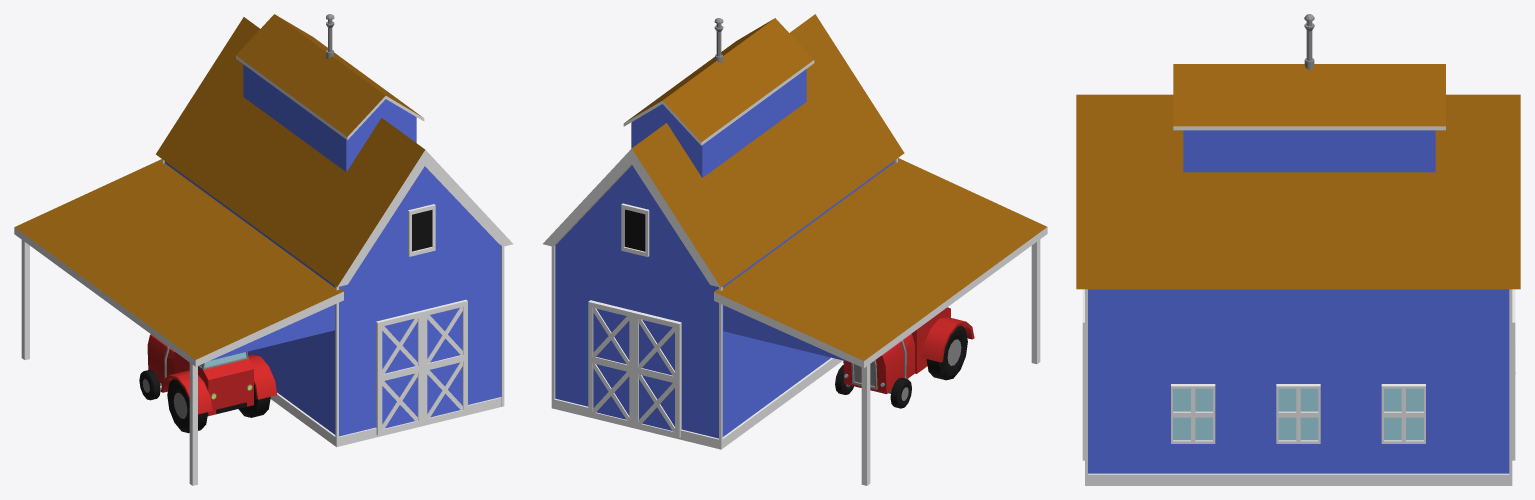
Rendered from house_3.fbx.
3 renders of one model, left to right at view 1: azimuth 30°, elevation 25°; view 2: azimuth 150°, elevation 25°; view 3: azimuth 270°, elevation 25°, orthographic. The views are drawn at different scales.
Visible parts, largest first — view 1: Ground.003; view 2: Ground.003; view 3: Ground.003.
Part boxes in pixels (x1,y1,x2,y2): Ground.003: (14,14,513,485); Ground.003: (543,14,1047,485); Ground.003: (1076,14,1520,485).
Bounding box in the file's own units: 74.97 × 78.91 × 74.22.
